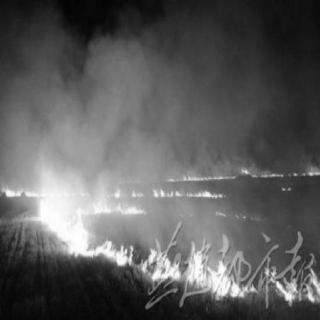Fire: (9, 158, 317, 302)
Smoke: (10, 9, 311, 157)
